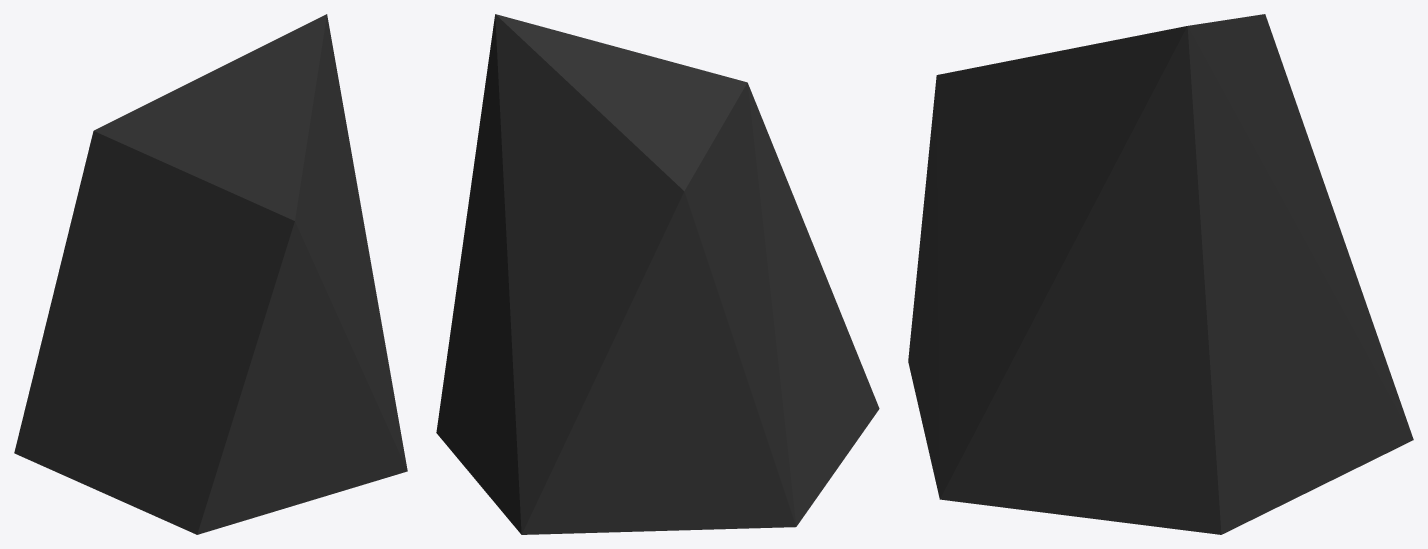
The model's file is CoalC.fbx.
3 views of the same model, side by side, from view 1: azimuth 30°, elevation 25°; view 2: azimuth 150°, elevation 25°; view 3: azimuth 270°, elevation 25° (orthographic). The views are drawn at different scales.
Parts seen in each view (by area): view 1: CoalC; view 2: CoalC; view 3: CoalC.
Part boxes in pixels (x1,y1,x2,y2): CoalC: [14, 14, 407, 534]; CoalC: [436, 14, 879, 534]; CoalC: [908, 14, 1413, 534].
Size of the model in its own units: 29.4 by 32.13 by 30.4.
